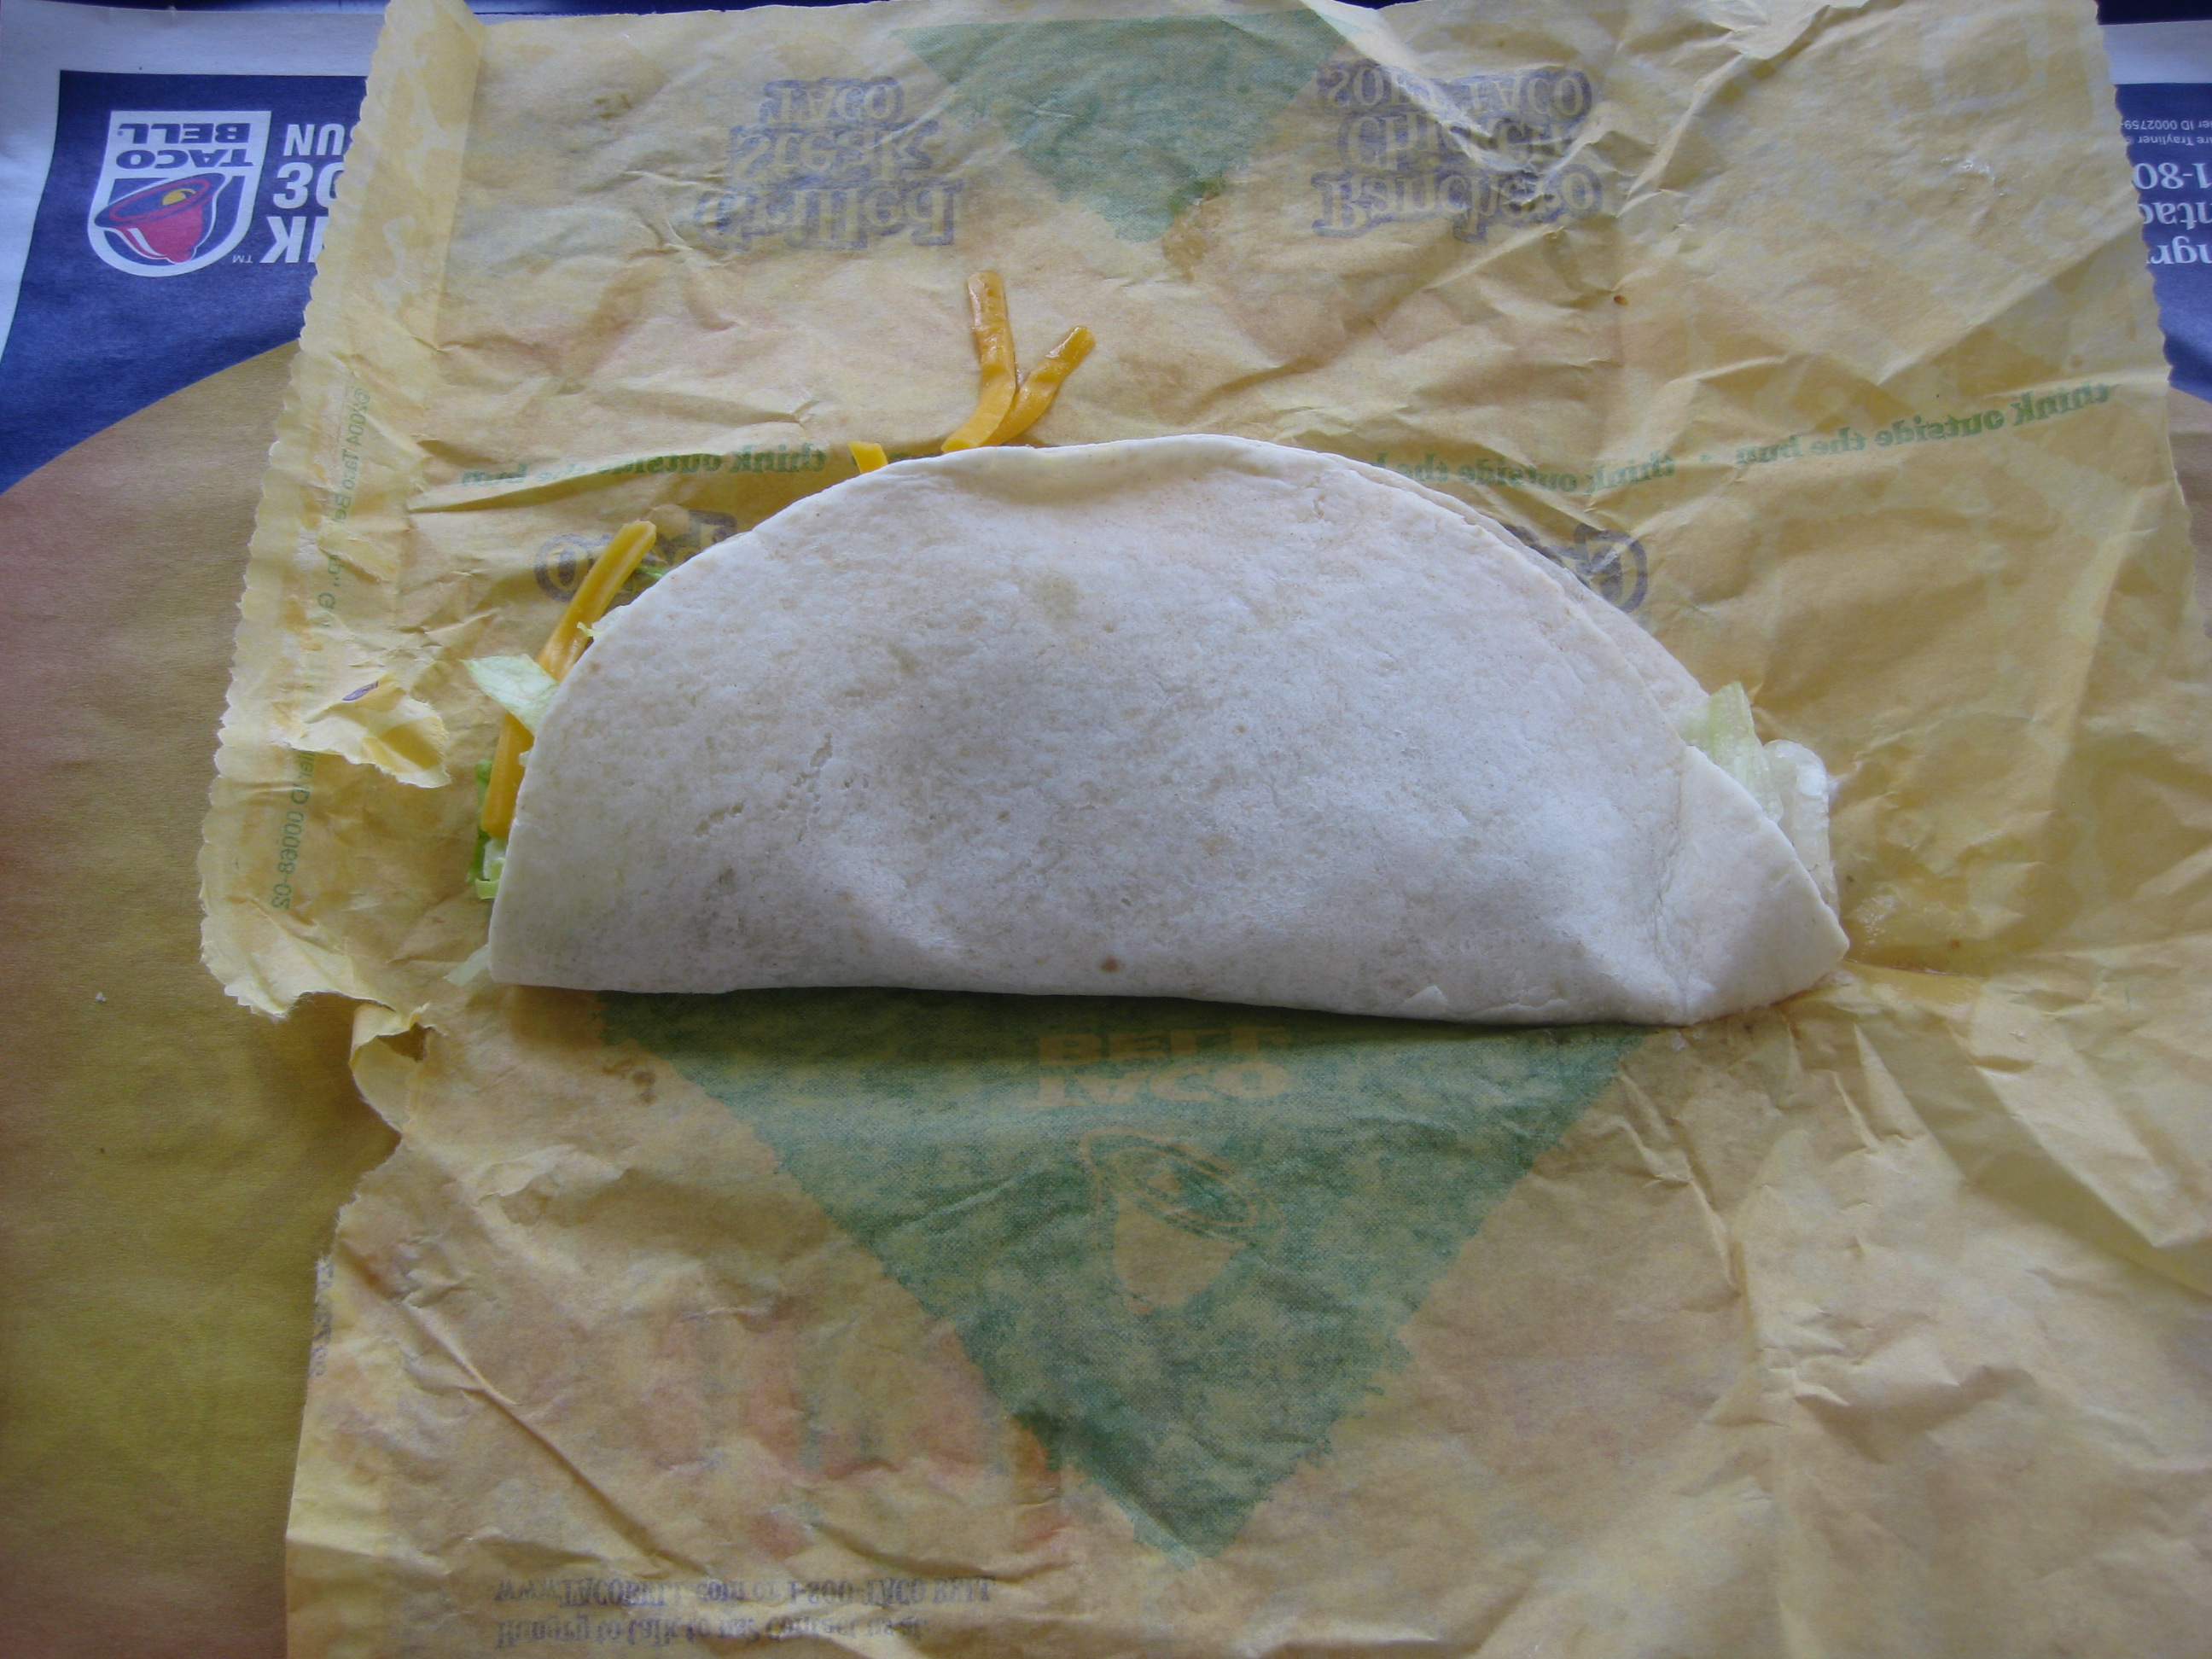taco: (460, 339, 1919, 1209)
